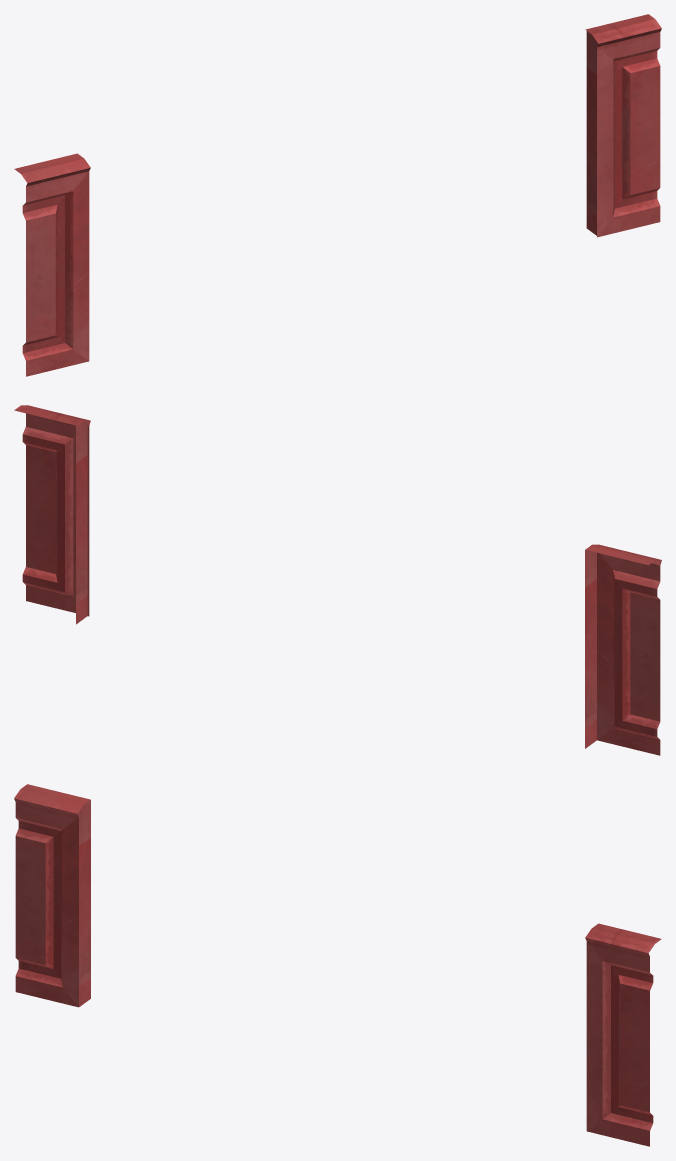
The model's file is Wooden base end.fbx.
The picture shows the model from 3 angles, top to bottom: view 1: azimuth 30°, elevation 25°; view 2: azimuth 150°, elevation 25°; view 3: azimuth 330°, elevation 25°; orthographic projection.
Parts seen in each view (by area): view 1: Wooden base end; view 2: Wooden base end; view 3: Wooden base end.
Boxes of the visible parts, x1,y1,x2,y2 form: Wooden base end: [14, 14, 661, 376]; Wooden base end: [14, 405, 661, 755]; Wooden base end: [14, 784, 661, 1146].
Size of the model in its own units: 200 by 60 by 7.32.
